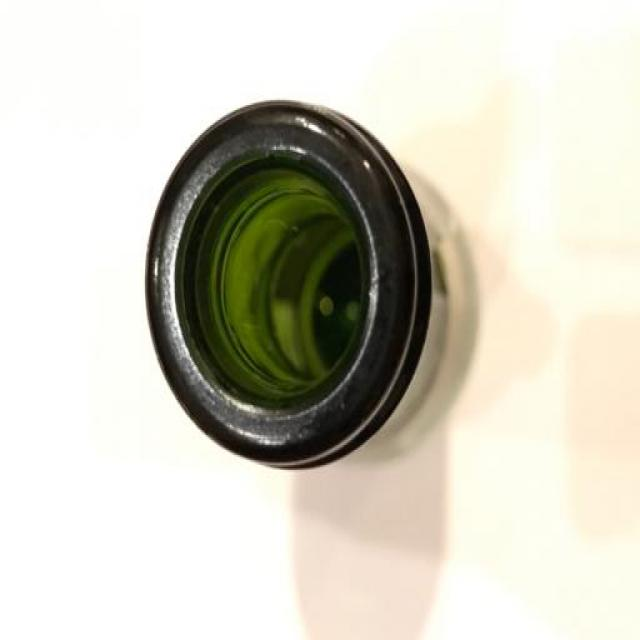glass: (103, 71, 558, 526)
